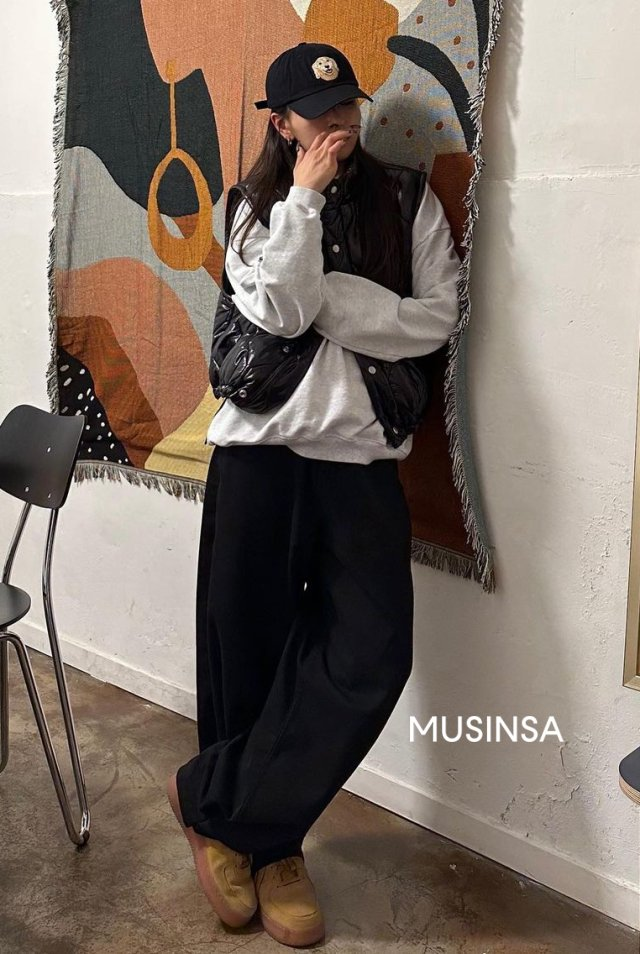Cap: (260, 38, 373, 111)
Pants: (186, 436, 418, 866)
Shoes: (170, 777, 339, 948)
Vest: (223, 140, 442, 436)
